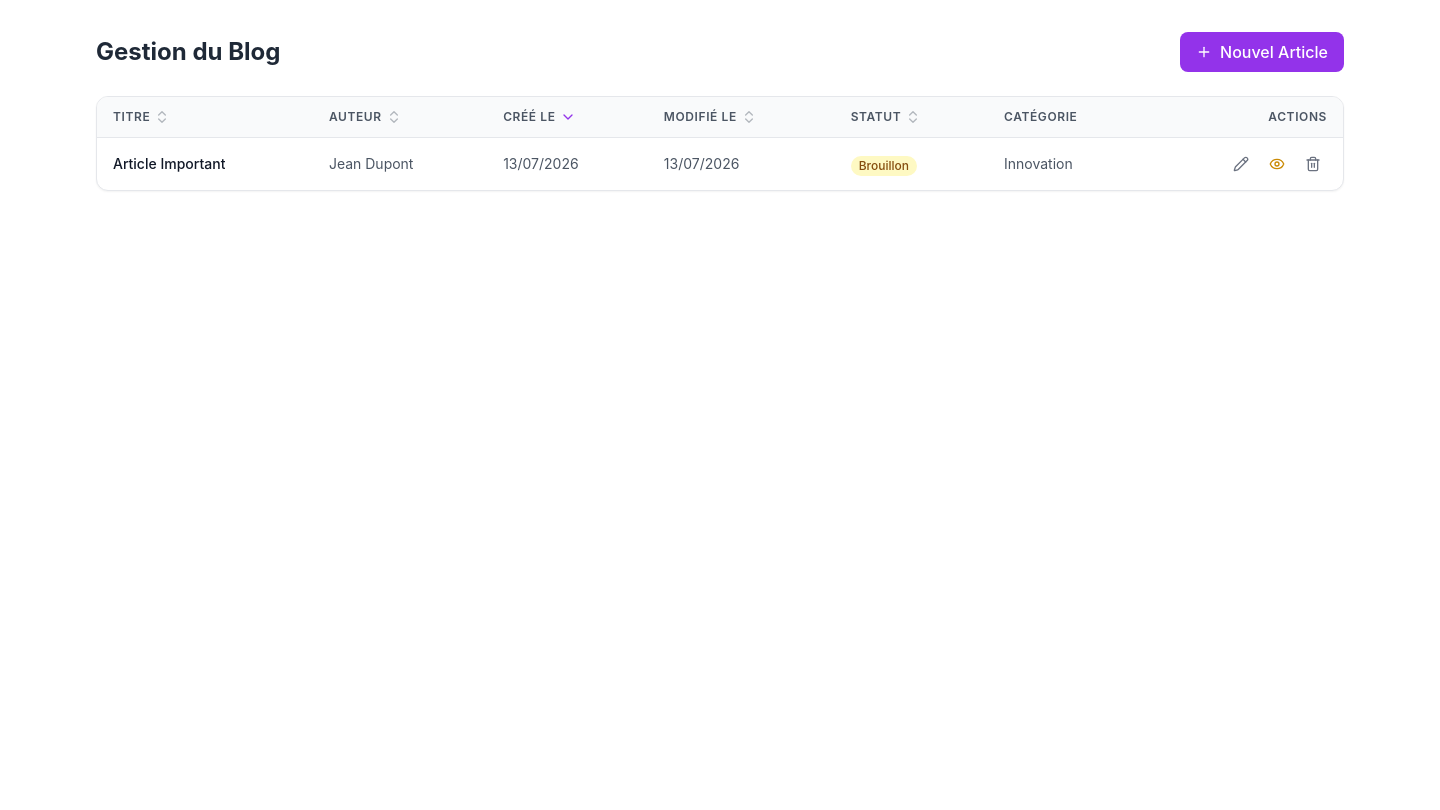
it: AdminDashboard › Requirement 7.7 — Confirmation de suppression › affiche le titre de l'article dans le dialogue de confirmation
This screenshot has width=1440, height=810.
Click the button named "supprimer l'article \"article important\"" at (1313, 164), box [1299, 150, 1327, 178]
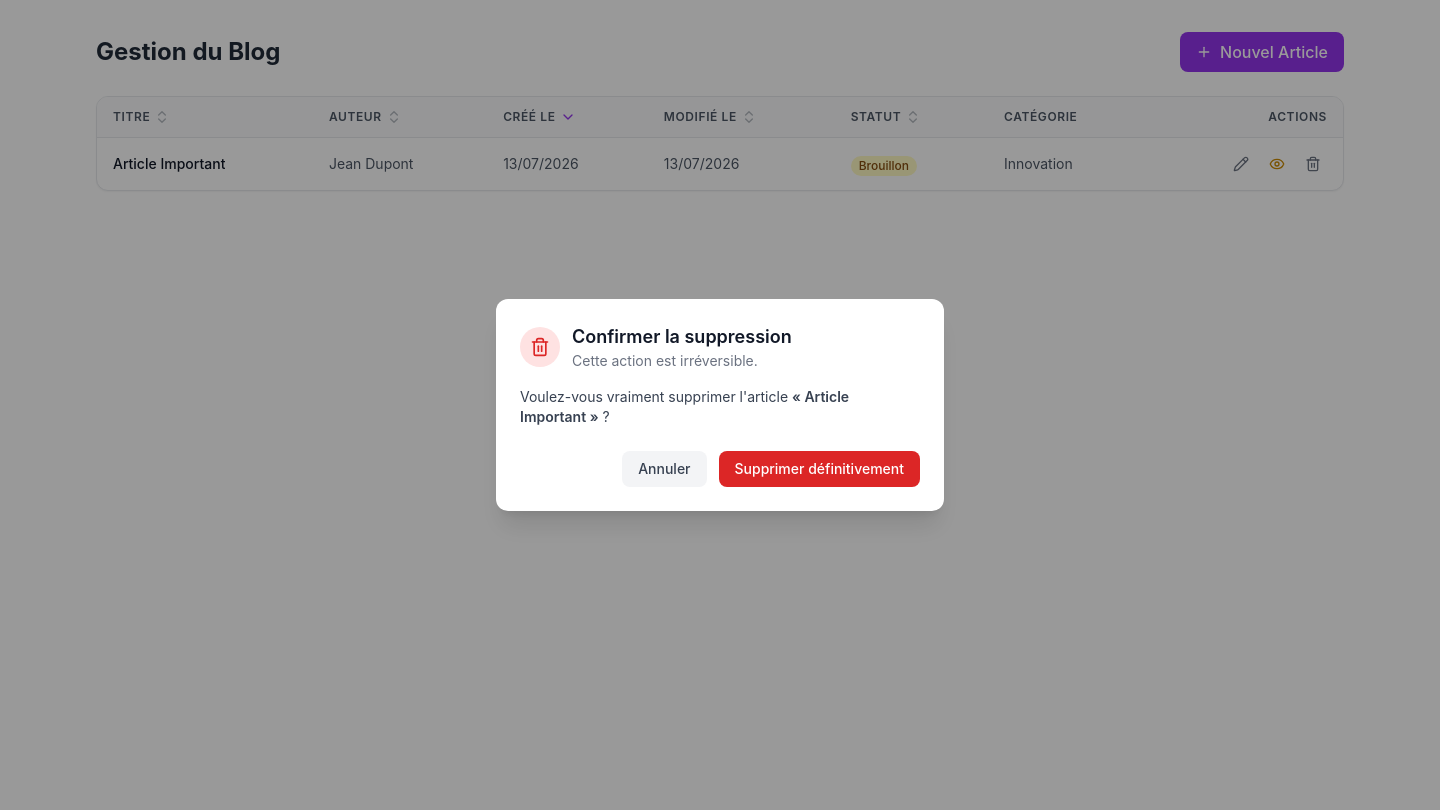
Result: the text "« Article Important »" is shown at [520, 388, 849, 425]
